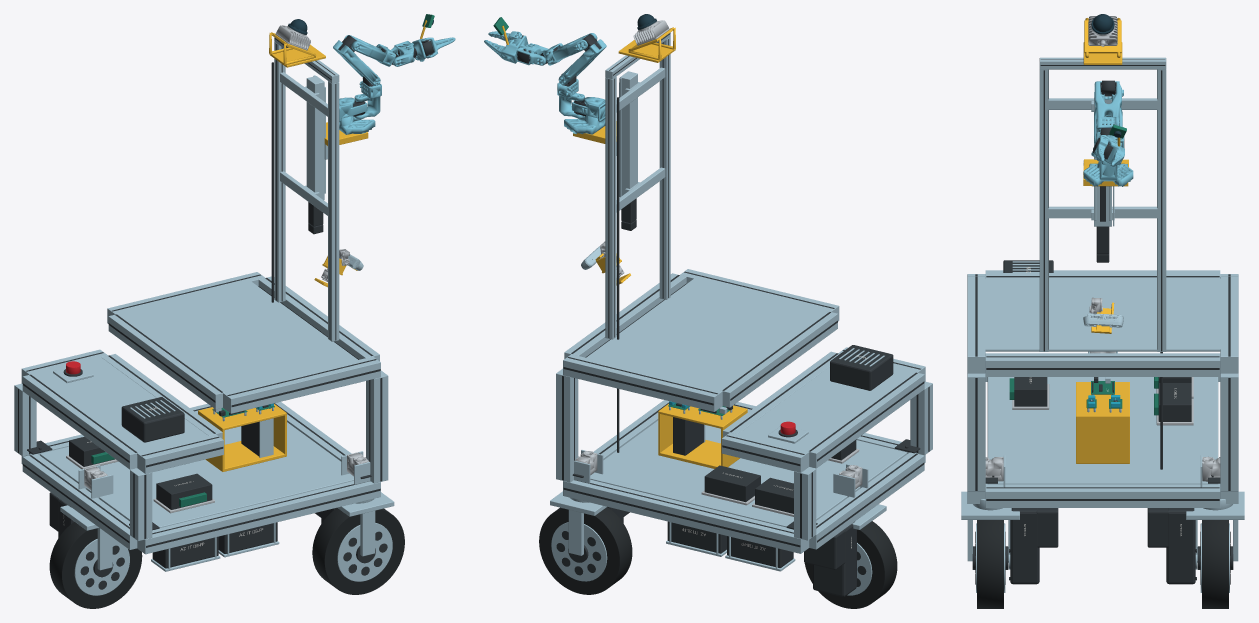
The model's file is robot_web_lod1.glb.
3 renders of one model, left to right at view 1: azimuth 30°, elevation 25°; view 2: azimuth 150°, elevation 25°; view 3: azimuth 270°, elevation 25°, orthographic. The views are drawn at different scales.
Parts seen in each view (by area): view 1: Forward equipment deck, Base tray, 4040_horizontal, Rear electrical deck, Tire.001, 4040_horizontal.004, Tire.002, 2020_front_support, 4040_cross.004, 4040_cross, 2020_front_support.001, 4040_cross.002 (+29 smaller); view 2: Forward equipment deck, Base tray, Rear electrical deck, 4040_horizontal.001, Tire, 4040_horizontal.005, 2020_front_support.001, 4040_cross.004, 4040_cross, 2020_front_support, 4040_cross.002, Tire.002 (+29 smaller); view 3: Base tray, Forward equipment deck, 4040_cross.005, 4040_cross.001, 2020_front_support, 2020_front_support.001, Tire, Tire.001, Printed common Lift side.001, 4040_upright.002, 4040_upright.003, GFS5G30FR metal housing (+33 smaller).
Part boxes in pixels (left/top/right/bottom): Forward equipment deck: left=119, top=281, right=357, bottom=391; Base tray: left=40, top=422, right=353, bottom=527; 4040_horizontal: left=137, top=481, right=380, bottom=554; Rear electrical deck: left=30, top=357, right=208, bottom=455; Tire.001: left=312, top=508, right=404, bottom=594; 4040_horizontal.004: left=223, top=356, right=380, bottom=413; Tire.002: left=49, top=522, right=142, bottom=608; 2020_front_support: left=328, top=81, right=339, bottom=341; 4040_cross.004: left=108, top=313, right=229, bottom=409; 4040_cross: left=22, top=454, right=137, bottom=549; 2020_front_support.001: left=274, top=42, right=285, bottom=302; 4040_cross.002: left=22, top=374, right=143, bottom=469; Forward equipment deck: left=586, top=278, right=826, bottom=390; Base tray: left=590, top=420, right=907, bottom=527; Rear electrical deck: left=737, top=366, right=918, bottom=453; 4040_horizontal.001: left=563, top=479, right=809, bottom=553; Tire: left=539, top=507, right=632, bottom=594; 4040_horizontal.005: left=563, top=354, right=722, bottom=411; 2020_front_support.001: left=605, top=76, right=616, bottom=339; 4040_cross.004: left=719, top=310, right=837, bottom=407; 4040_cross: left=809, top=452, right=924, bottom=549; 2020_front_support: left=659, top=37, right=670, bottom=299; 4040_cross.002: left=809, top=371, right=924, bottom=468; Tire.002: left=804, top=521, right=897, bottom=608; Base tray: left=987, top=377, right=1218, bottom=484; Forward equipment deck: left=985, top=278, right=1220, bottom=351; 4040_cross.005: left=985, top=353, right=1220, bottom=376; 4040_cross.001: left=985, top=484, right=1220, bottom=507; 2020_front_support: left=1039, top=69, right=1048, bottom=351; 2020_front_support.001: left=1157, top=69, right=1166, bottom=351; Tire: left=1202, top=520, right=1228, bottom=608; Tire.001: left=977, top=520, right=1003, bottom=608; Printed common Lift side.001: left=1076, top=417, right=1129, bottom=461; 4040_upright.002: left=967, top=373, right=985, bottom=491; 4040_upright.003: left=1220, top=373, right=1238, bottom=491; GFS5G30FR metal housing: left=1166, top=508, right=1195, bottom=584.
Bounding box in the file's own units: 1.12 × 1.43 × 0.6278.
